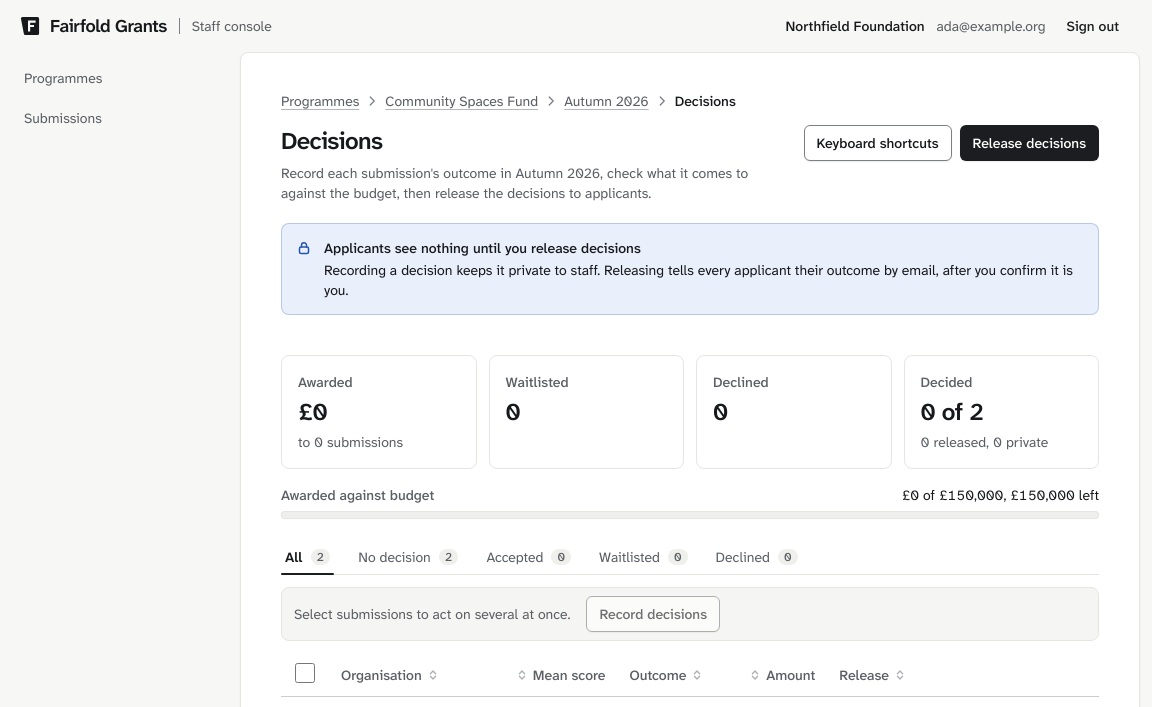
Test: the decisions of a round › explains an outcome nobody has yet
Click the button "Accepted 0": (529, 557) [482,539,575,575]
(page scrolled)
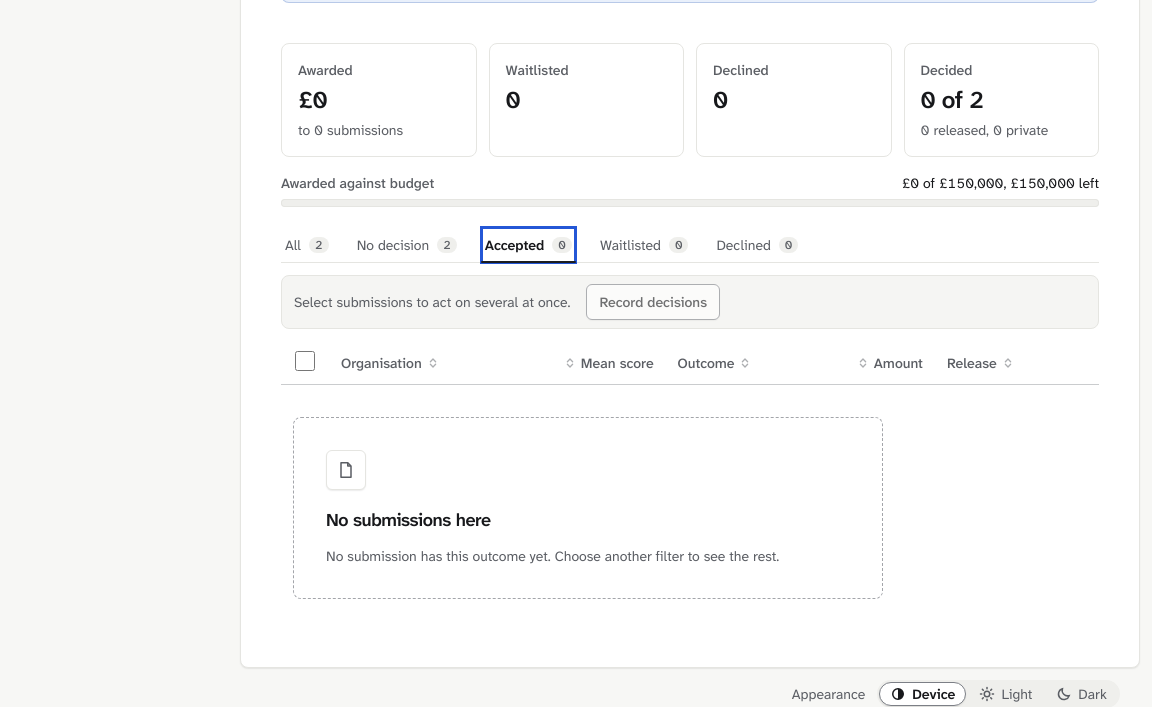
Expected: the heading "No submissions here" is shown, [326,506,490,534]
